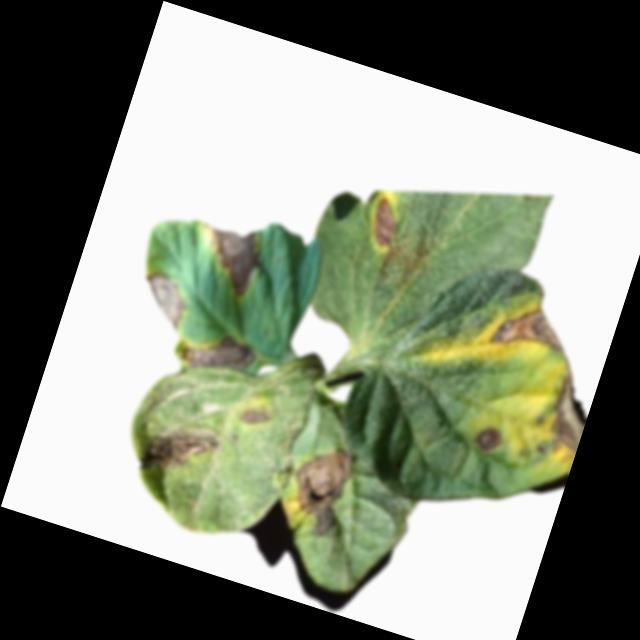Early_blight: (462, 293, 615, 451), (275, 434, 360, 542), (137, 408, 225, 488), (193, 216, 268, 299), (176, 322, 257, 384), (130, 266, 194, 331), (363, 195, 406, 250), (469, 419, 505, 455), (236, 398, 269, 428)
